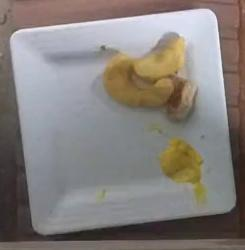fries: (104, 33, 198, 120)
